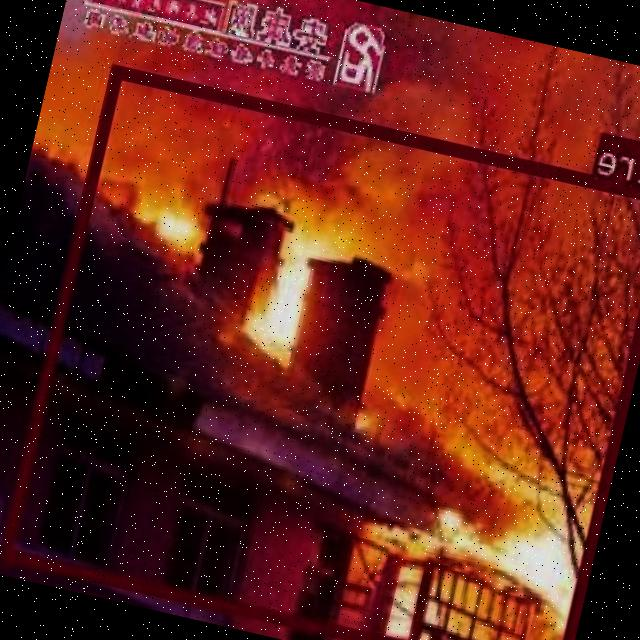fire: (1, 62, 640, 640)
